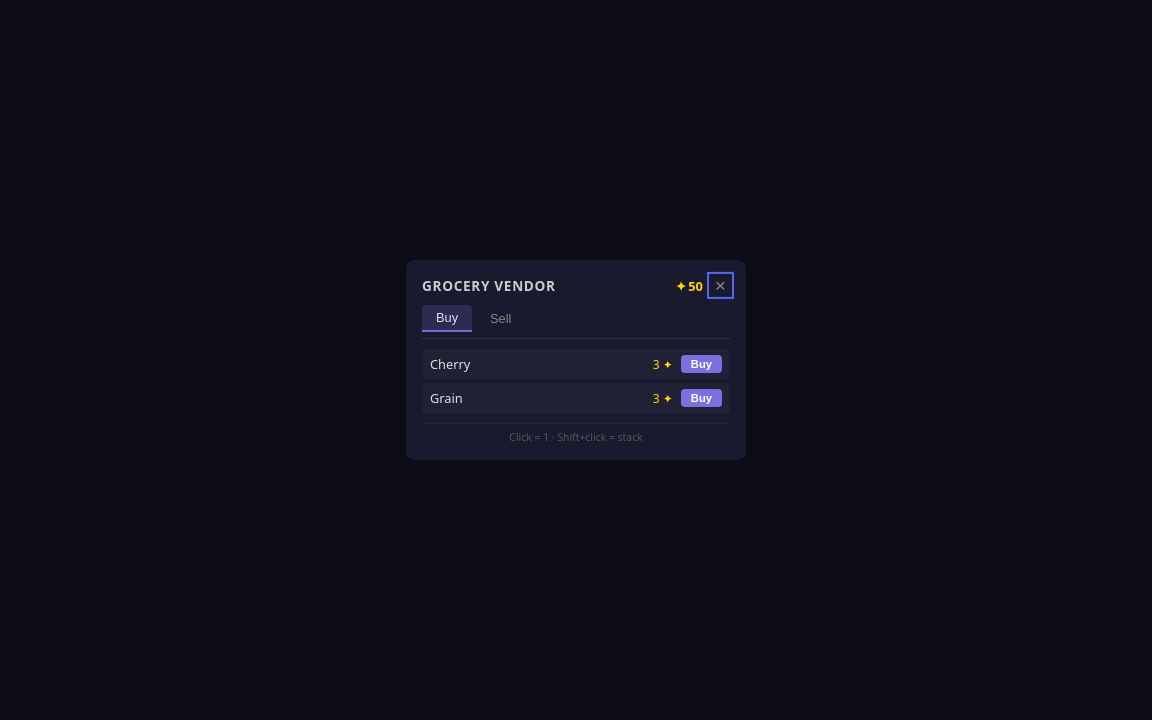
Test: ShopPanel › shows empty state on sell tab with no items
Click the tab "Sell" at (501, 319), box 476,305 -> 525,332
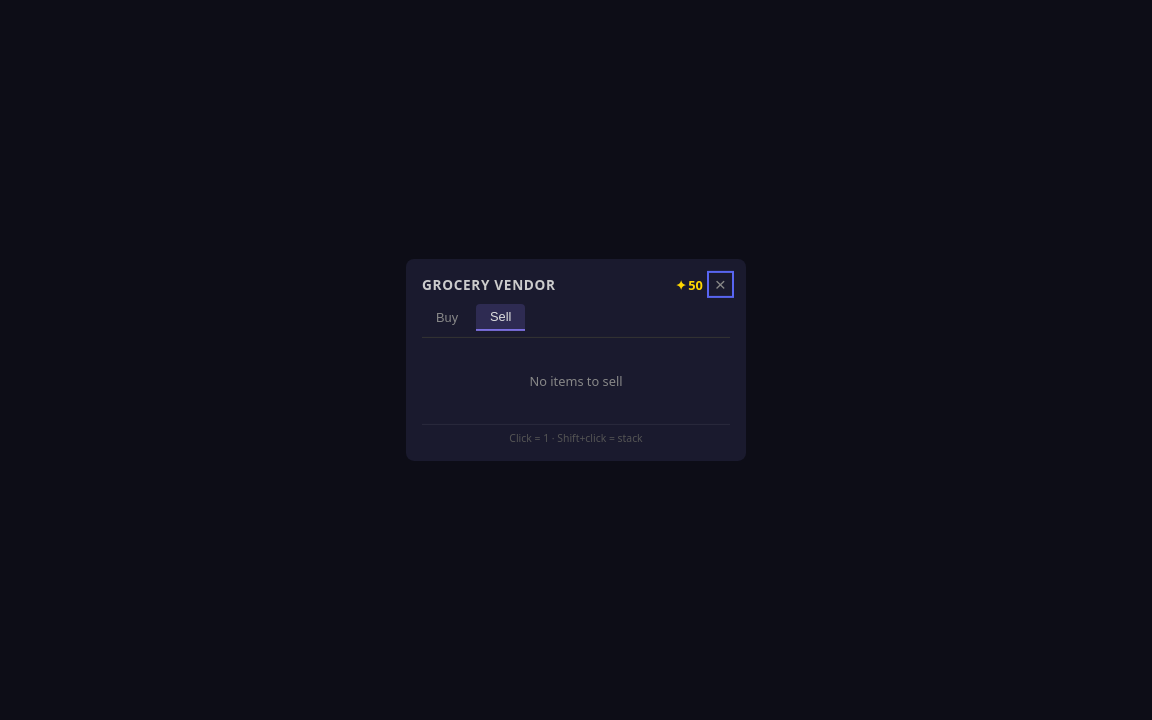
Expected: the text "No items to sell" is shown, 530,372 -> 622,390
